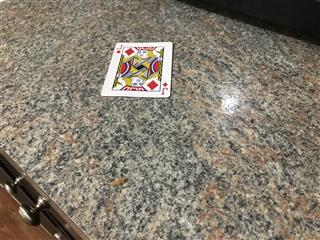JackOfDiamonds: (100, 41, 174, 97)
